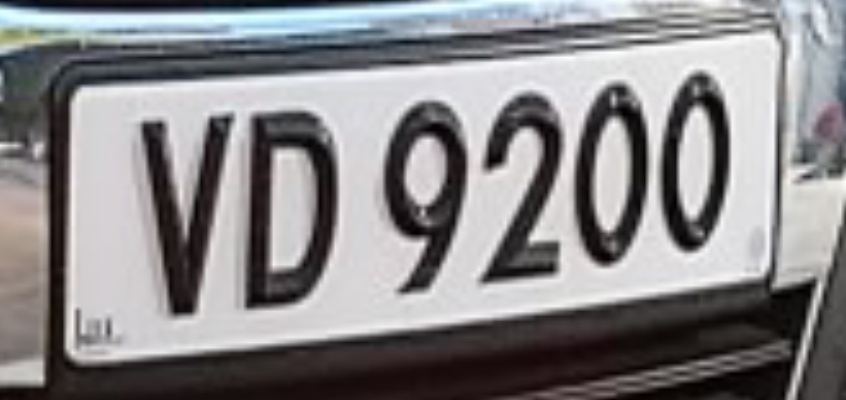0: (571, 47, 658, 291), (653, 39, 740, 279)
2: (473, 56, 582, 310)
9: (370, 76, 475, 312)
D: (235, 79, 354, 320)
V: (128, 92, 236, 334)
